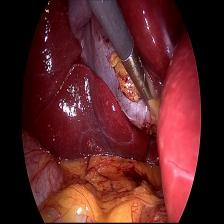Grasper: (119, 48, 158, 114)
